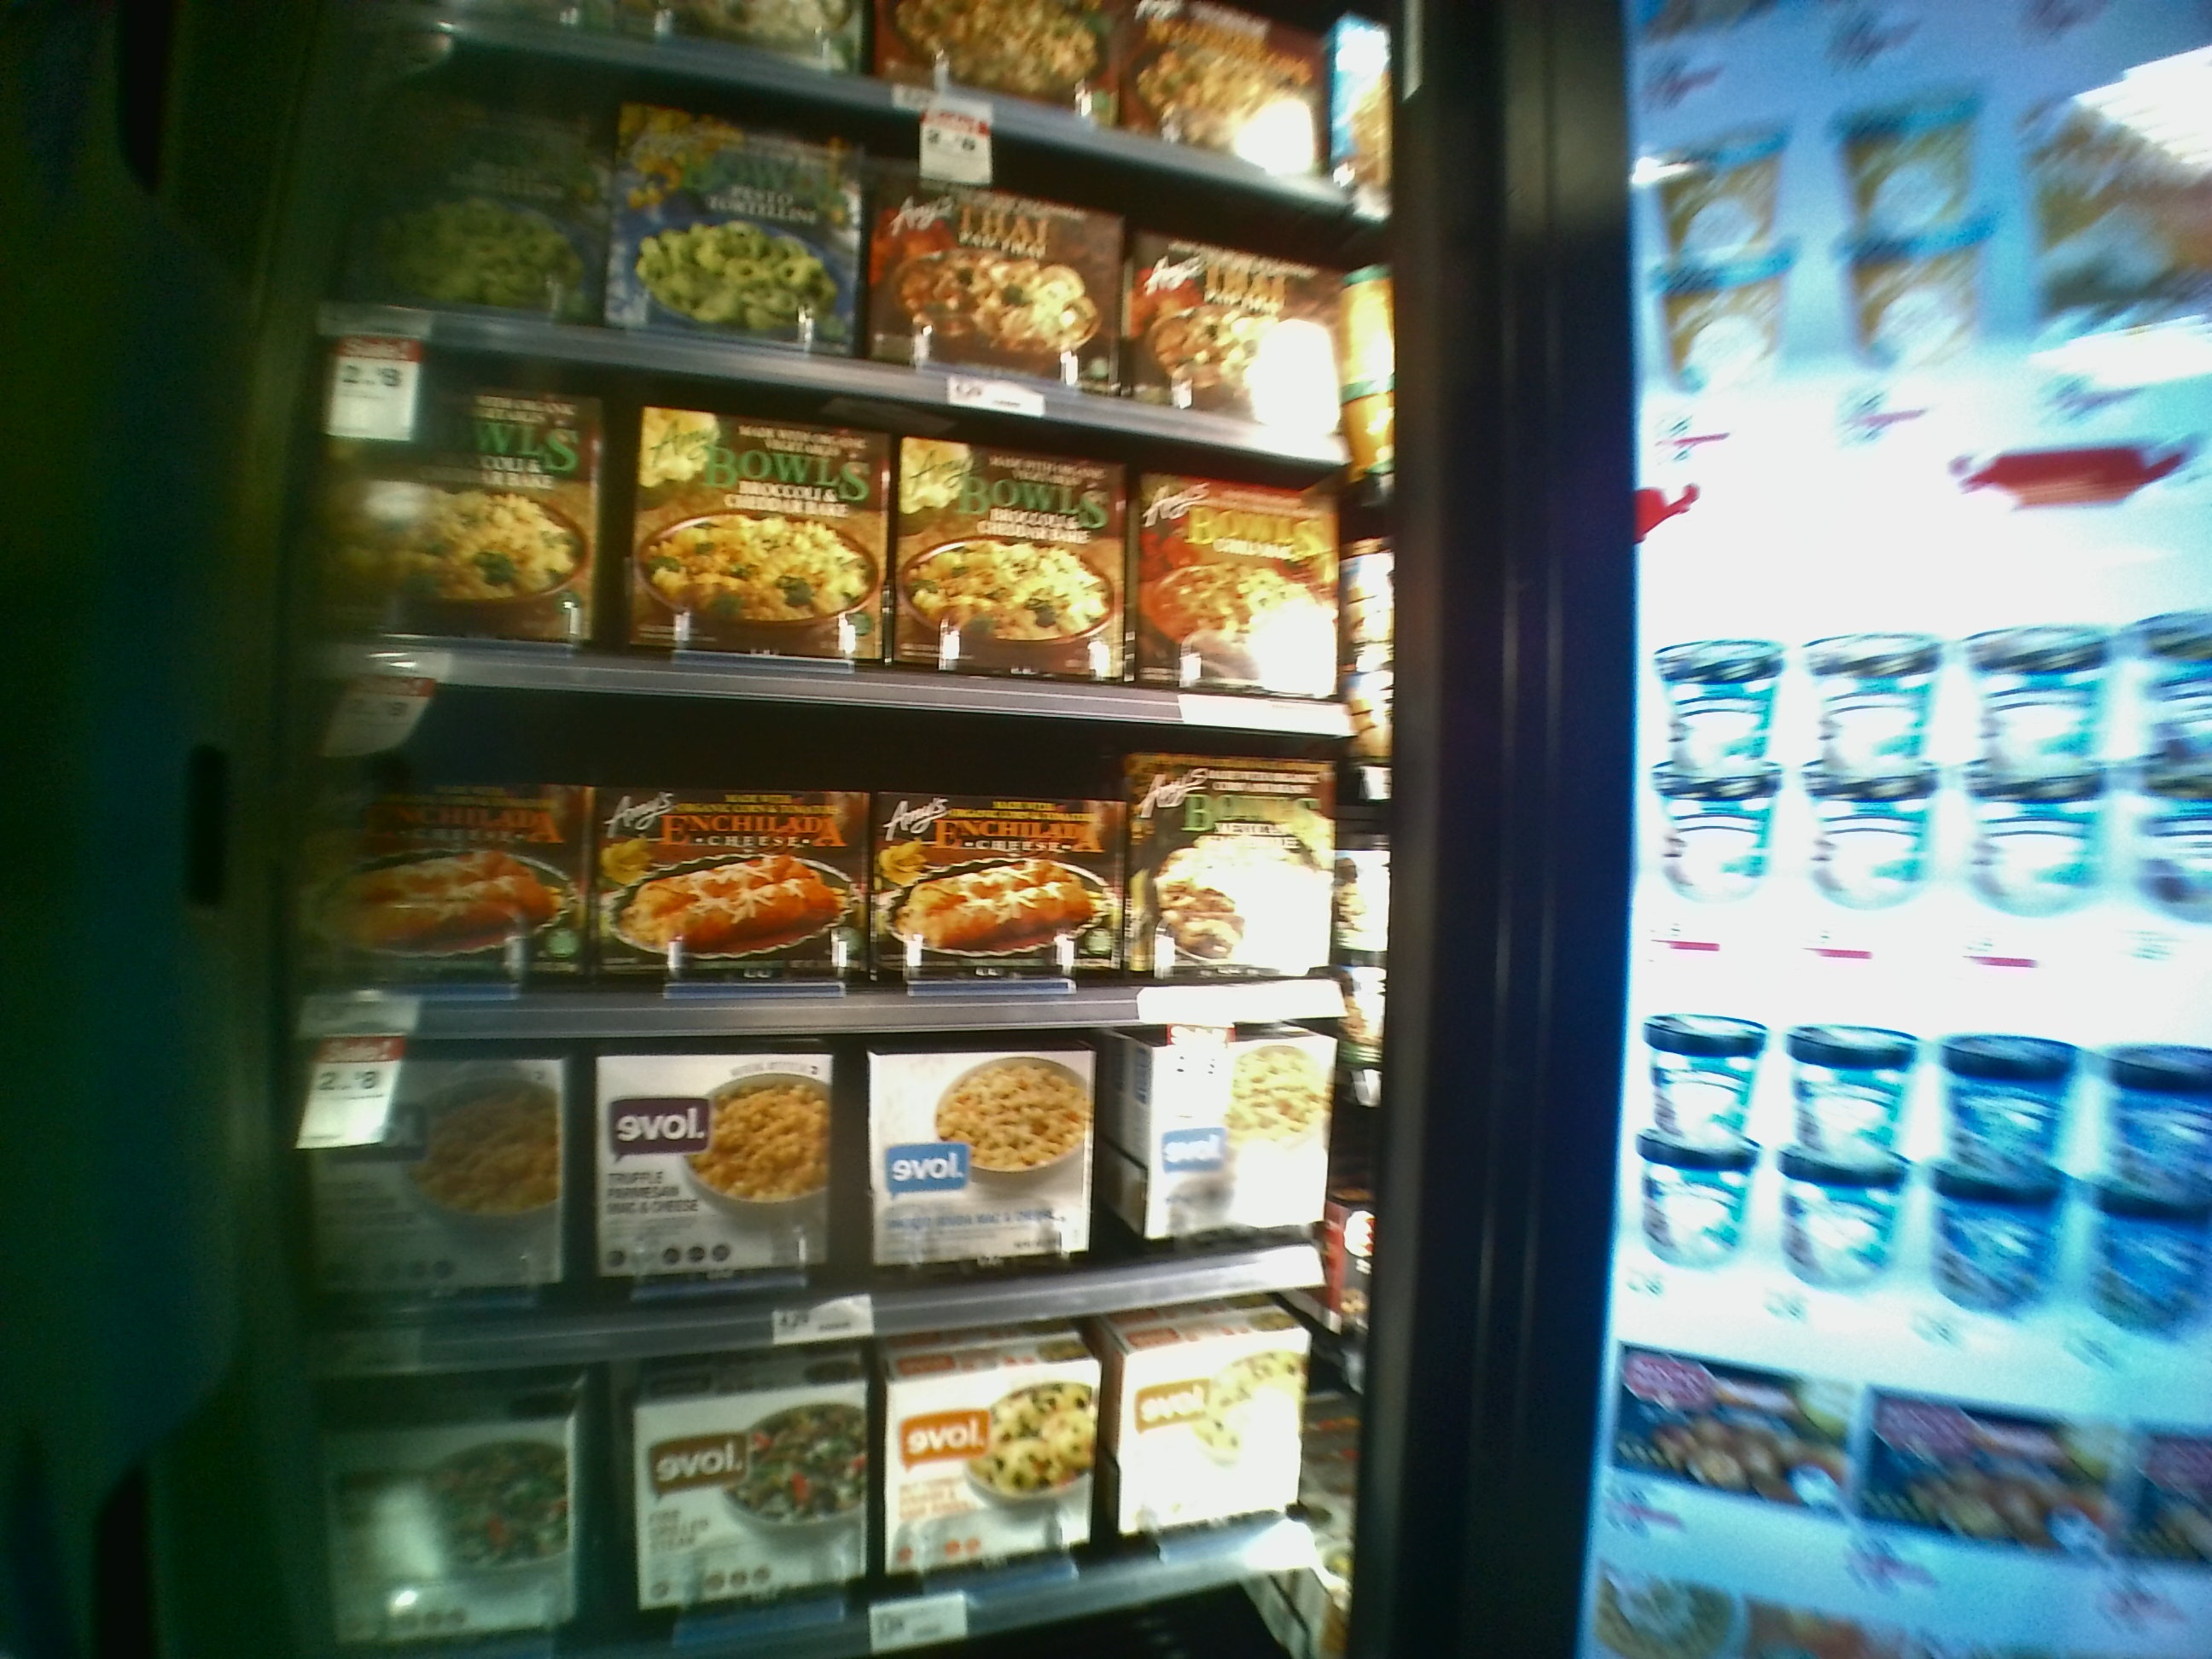shelf: (301, 711, 1381, 1032), (296, 1025, 1369, 1345), (312, 410, 1386, 723), (333, 1344, 1343, 1638)
